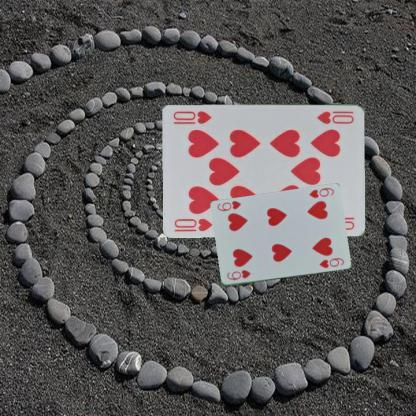10h: (315, 108, 355, 125), (172, 216, 214, 232)
6h: (306, 186, 335, 200), (224, 268, 252, 282)
